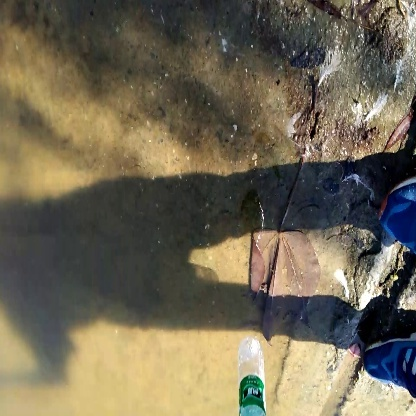leaf: (242, 154, 329, 342)
